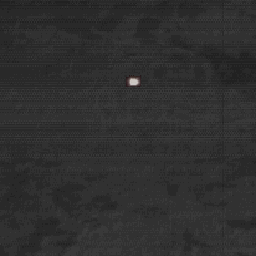Target: (127, 75, 141, 87)
